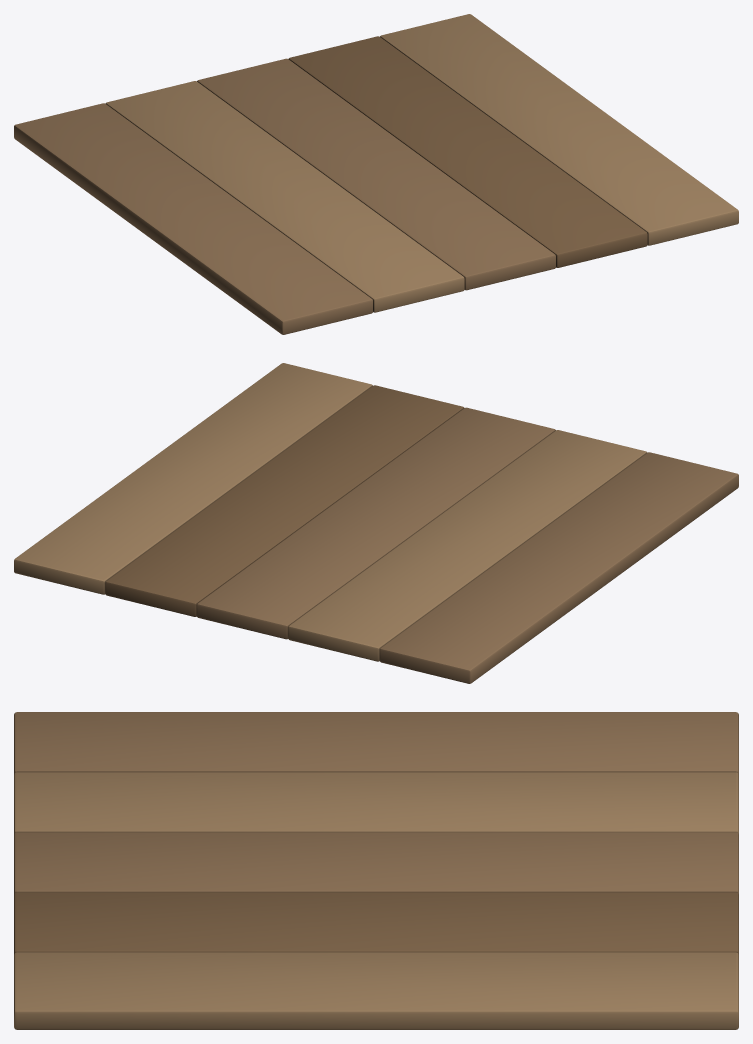
The model's file is floor_planks.glb.
3 views of the same model, one above another, from view 1: azimuth 30°, elevation 25°; view 2: azimuth 150°, elevation 25°; view 3: azimuth 270°, elevation 25° (orthographic). The views are drawn at different scales.
Visible parts, largest first — view 1: floor_planks; view 2: floor_planks; view 3: floor_planks.
Part boxes in pixels (x1,y1,x2,y2): floor_planks: (14, 14, 738, 334); floor_planks: (14, 363, 738, 683); floor_planks: (14, 712, 738, 1029).
Bounding box in the file's own units: 0.98 × 0.03 × 1.
